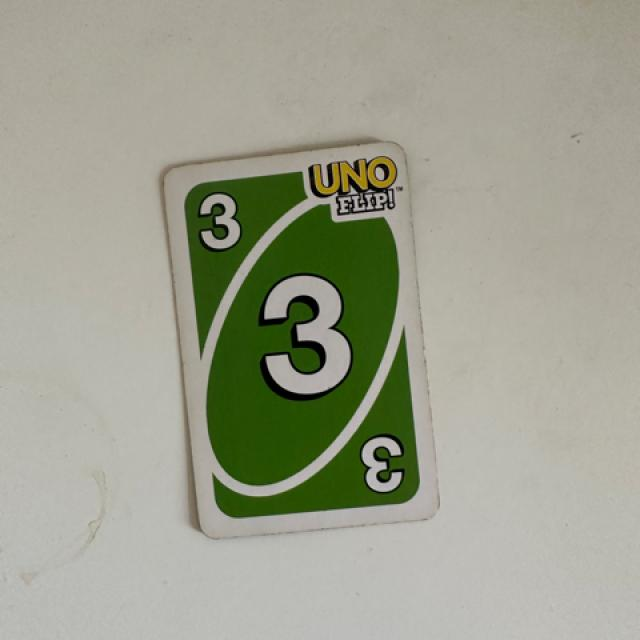lgreen-3: (180, 178, 254, 260)
